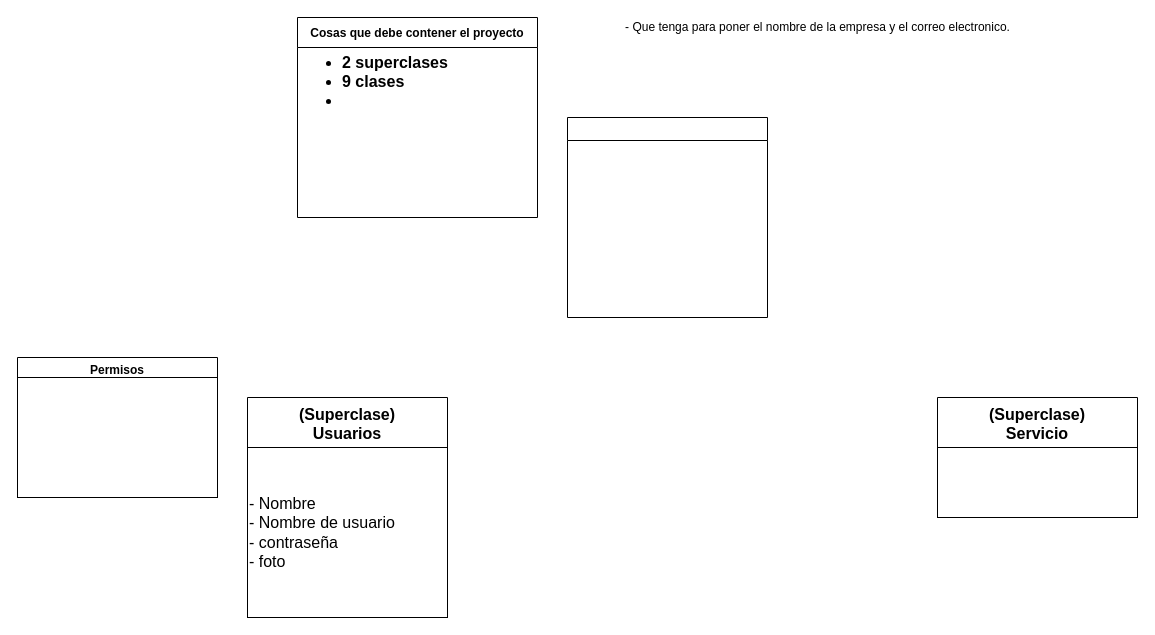
This 1155x635 diagram has some shape labels left out. Each missing label, with the centre of its shape:
"- Precio - Nombre" goes at (1037,482).
"Vertical Container" goes at (667,217).
